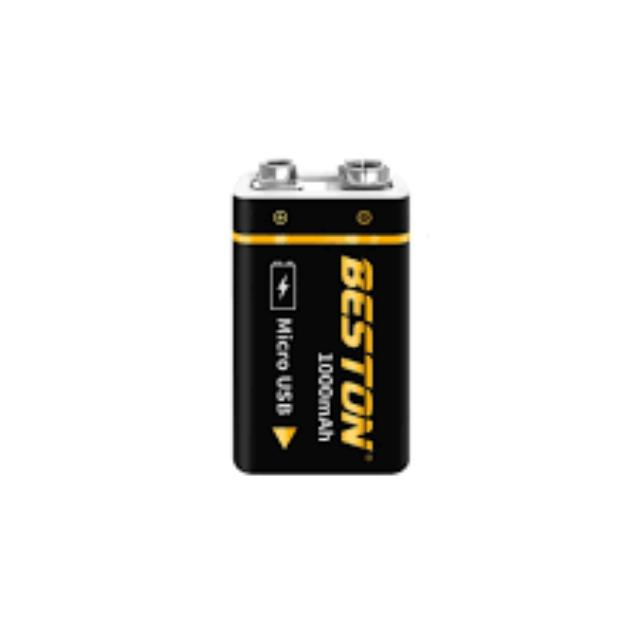Battery: (230, 159, 412, 478)
